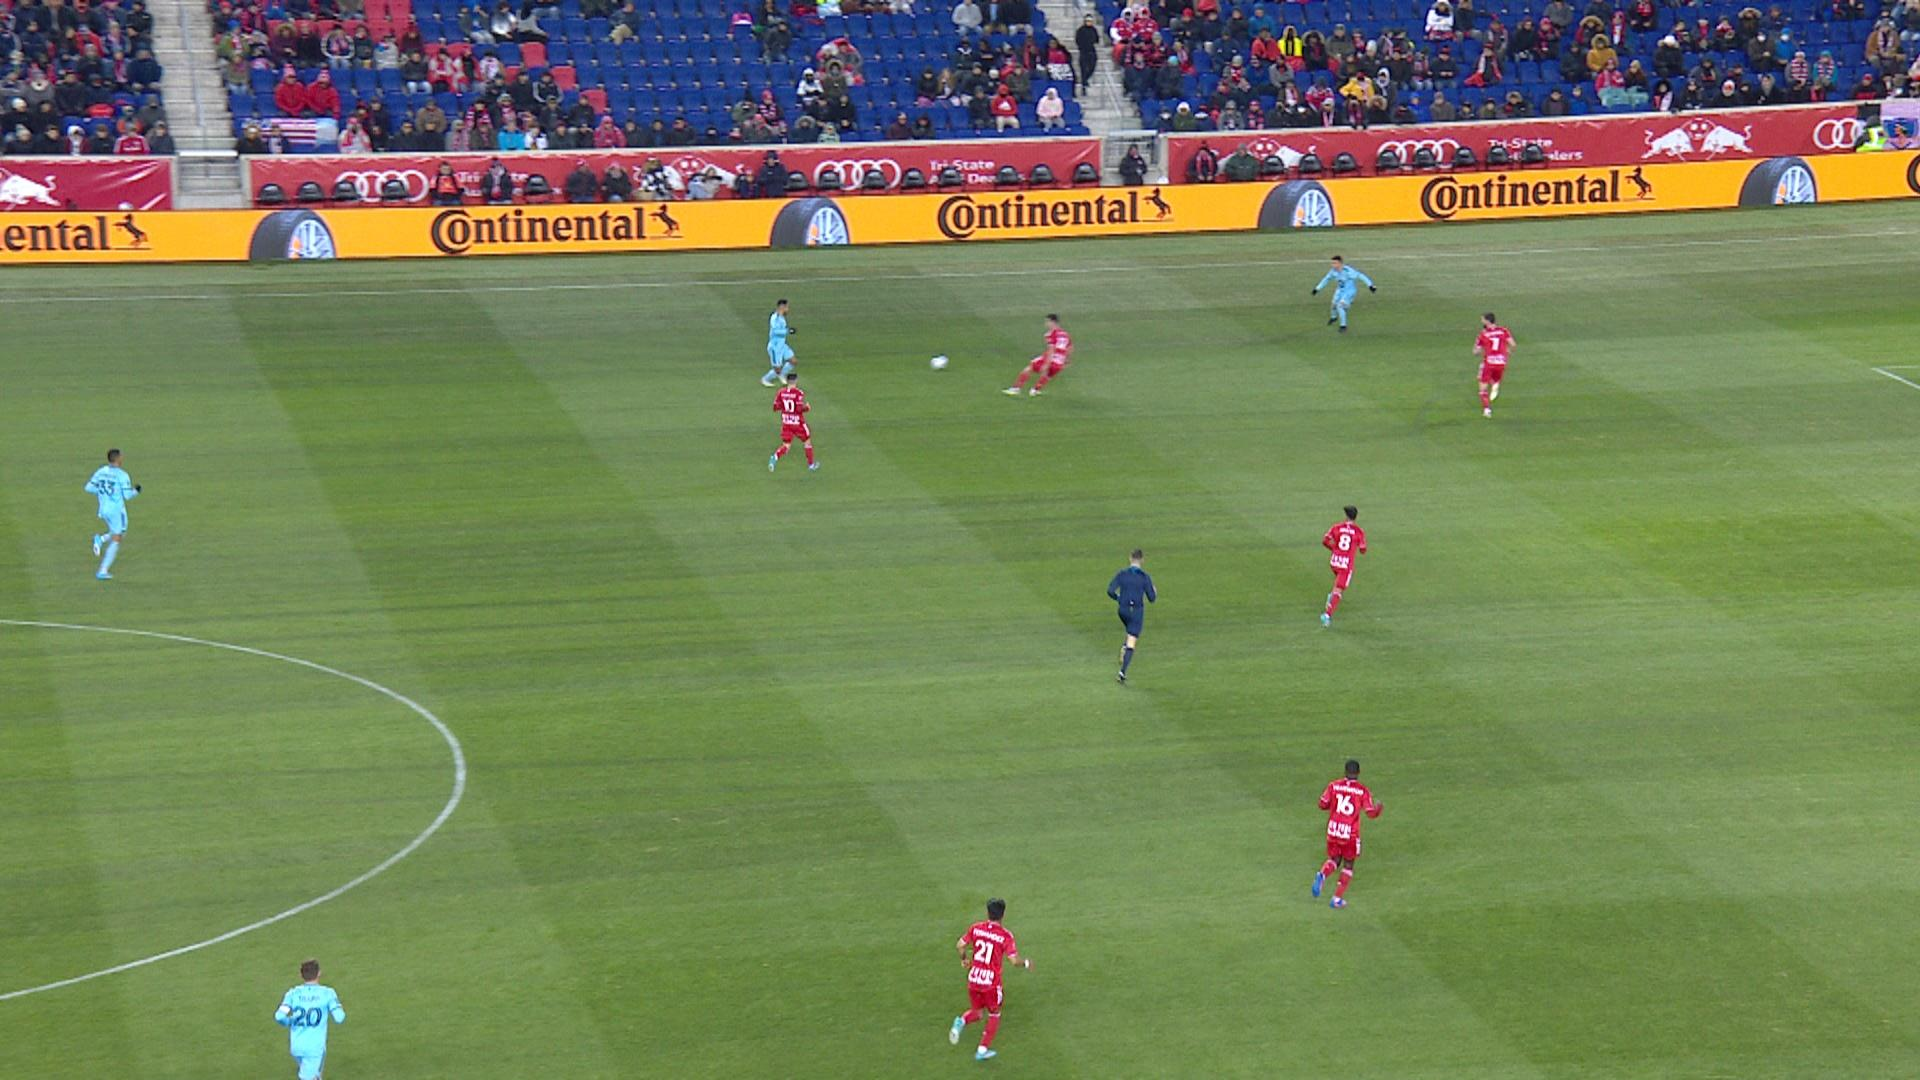football: (930, 356, 949, 371)
